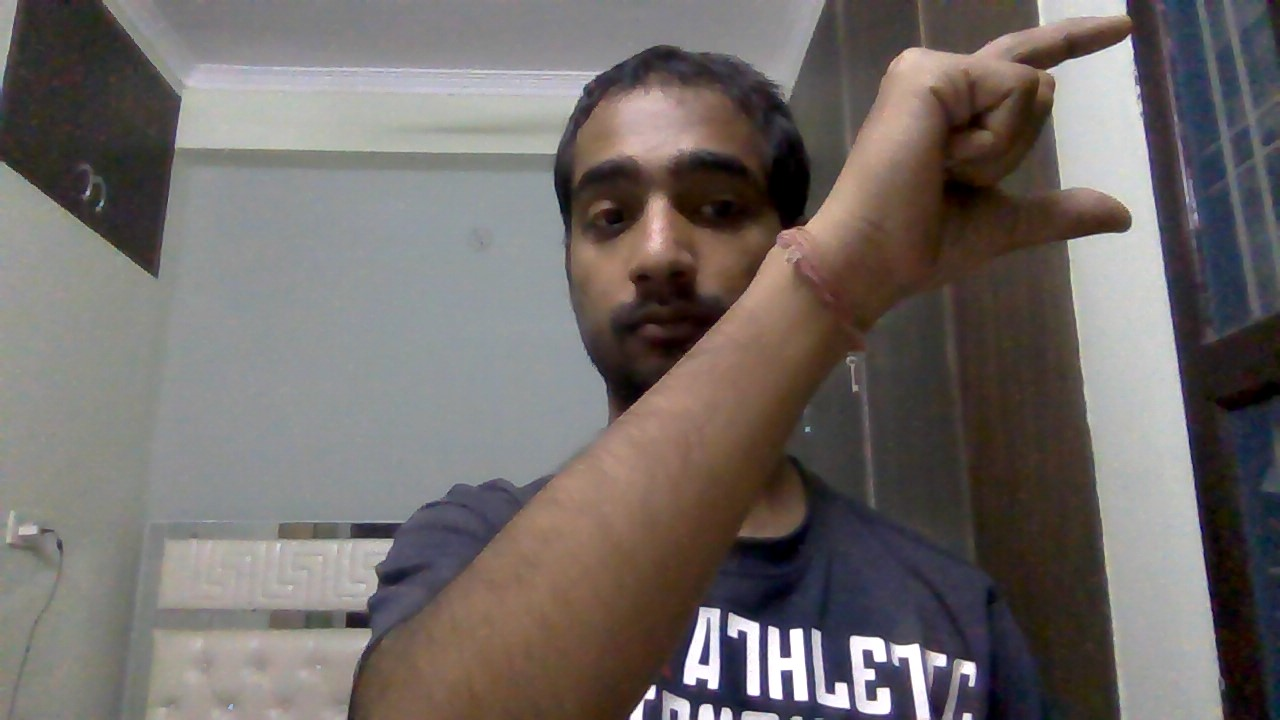Paste: (824, 8, 1181, 308)
